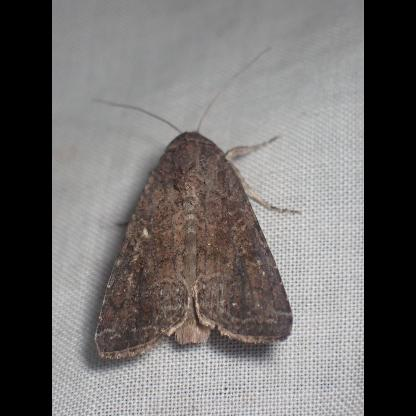Fall Armyworm Moth: (91, 110, 303, 362)
